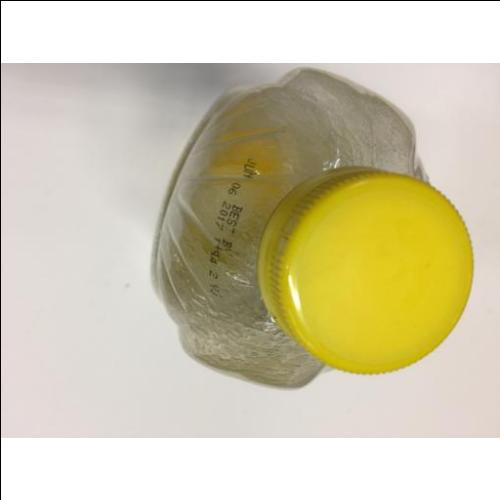plastic: (160, 77, 471, 396)
